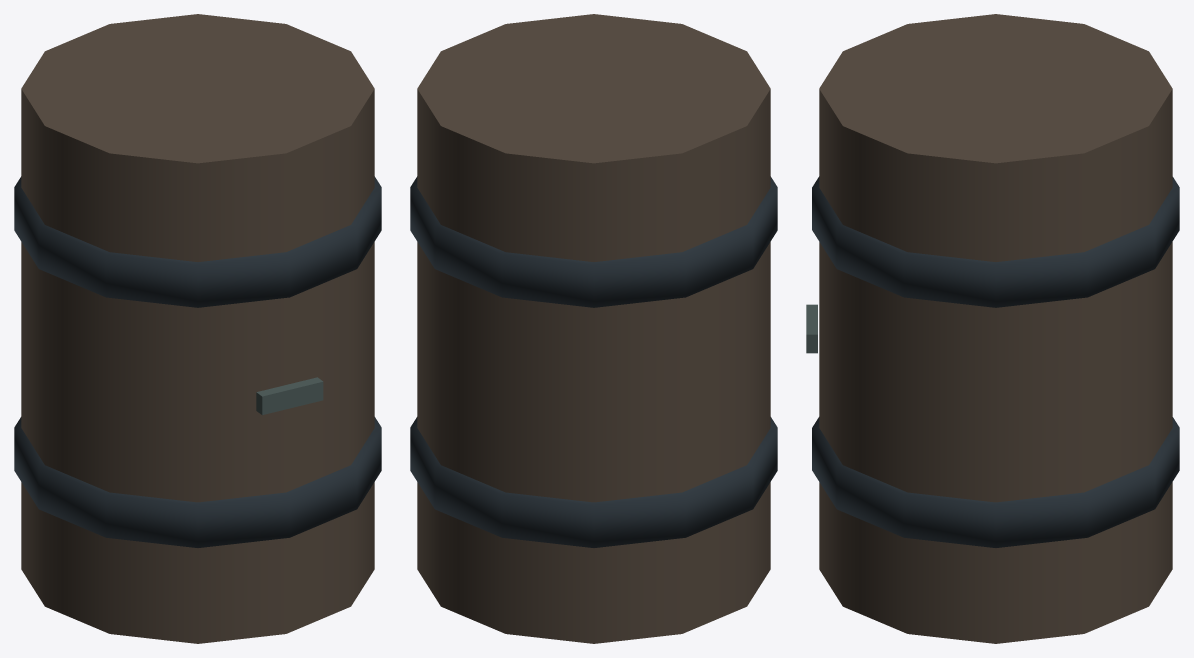
The model's file is barrel-3.glb.
3 renders of one model, left to right at view 1: azimuth 30°, elevation 25°; view 2: azimuth 150°, elevation 25°; view 3: azimuth 270°, elevation 25°, orthographic.
Visible parts, largest first — view 1: barrel/2/KR-230-3; view 2: barrel/2/KR-230-3; view 3: barrel/2/KR-230-3.
Part boxes in pixels (box(x1,y1,x2,y2)): barrel/2/KR-230-3: box(14, 14, 381, 643); barrel/2/KR-230-3: box(410, 14, 777, 643); barrel/2/KR-230-3: box(806, 14, 1179, 643).
Size of the model in its own units: 0.624 by 0.9 by 0.634.
